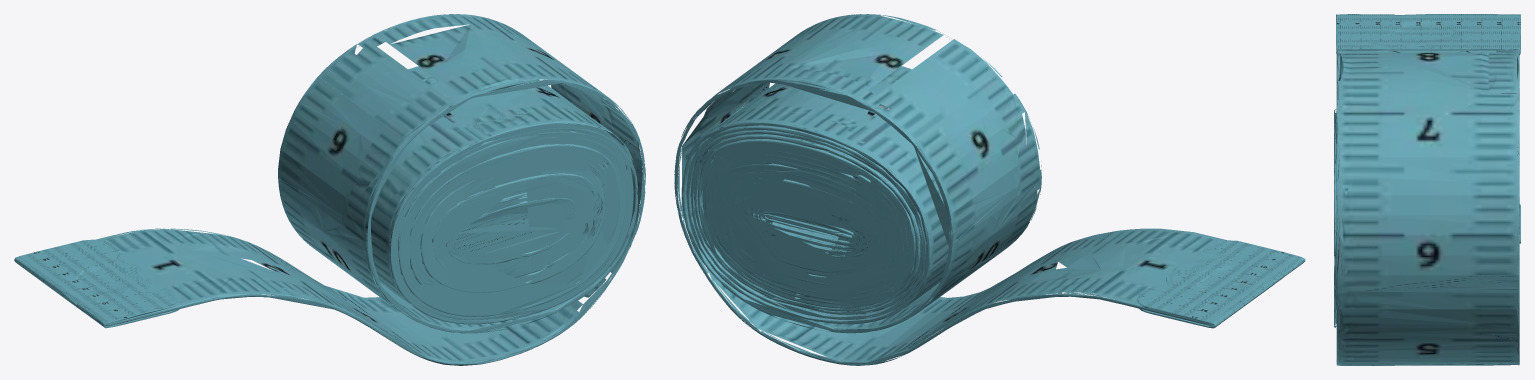
Rendered from metre_ruban.glb.
3 renders of one model, left to right at view 1: azimuth 30°, elevation 25°; view 2: azimuth 150°, elevation 25°; view 3: azimuth 270°, elevation 25°, orthographic. The views are drawn at different scales.
Visible parts, largest first — view 1: p1, p2, p3, p4, p0; view 2: p3, p1, p4, p0, p2; view 3: p1, p0, p2, p4, p3.
Part boxes in pixels (<box>): p1: <box>95,14,645,365</box>; p2: <box>290,14,637,333</box>; p3: <box>278,14,634,330</box>; p4: <box>106,35,645,347</box>; p0: <box>14,239,181,328</box>; p3: <box>683,39,1041,333</box>; p1: <box>674,14,1226,365</box>; p4: <box>674,50,1213,365</box>; p0: <box>762,214,1305,328</box>; p2: <box>695,14,1029,330</box>; p1: <box>1334,47,1519,365</box>; p0: <box>1336,14,1520,243</box>; p2: <box>1334,51,1516,328</box>; p4: <box>1334,49,1519,364</box>; p3: <box>1334,49,1519,323</box>.
Bounding box in the file's own units: 0.13 × 0.0632 × 0.038.
1 material, 1 textured.
